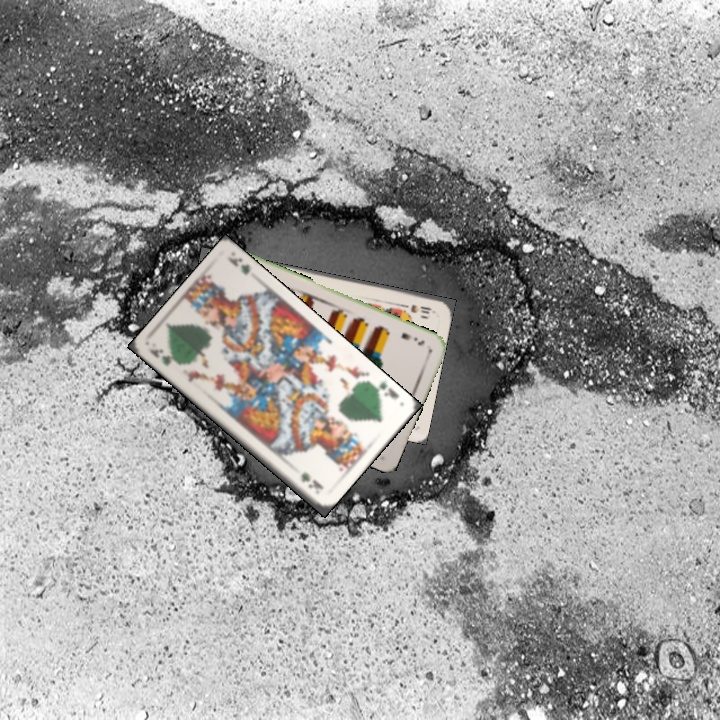E7: (397, 328, 427, 348)
GK: (145, 345, 183, 368), (366, 377, 402, 401)
S10: (397, 300, 437, 316)
